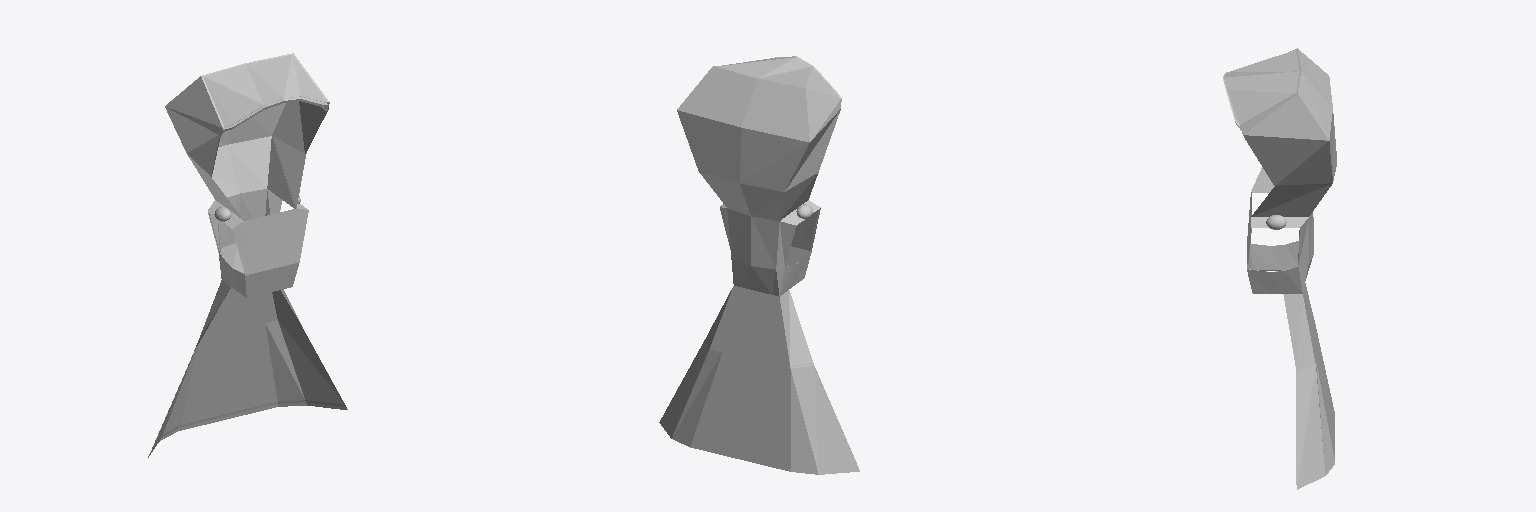
Rendered from RangerHood (1).obj.
3 views of the same model, side by side, from view 1: azimuth 30°, elevation 25°; view 2: azimuth 150°, elevation 25°; view 3: azimuth 270°, elevation 25° (orthographic).
Visible parts, largest first — view 1: pasted__pPlane3group, pPlane3; view 2: pPlane3, pasted__pPlane3group; view 3: pPlane3, pasted__pPlane3group.
Boxes of the visible parts, x1=… form: pasted__pPlane3group: x1=150, y1=97, x2=345, y2=452; pPlane3: x1=148, y1=53, x2=347, y2=457; pPlane3: x1=659, y1=56, x2=859, y2=474; pasted__pPlane3group: x1=785, y1=209, x2=856, y2=462; pPlane3: x1=1223, y1=48, x2=1336, y2=489; pasted__pPlane3group: x1=1235, y1=121, x2=1301, y2=484.
Bounding box in the file's own units: 1.78 × 3.13 × 0.8807.